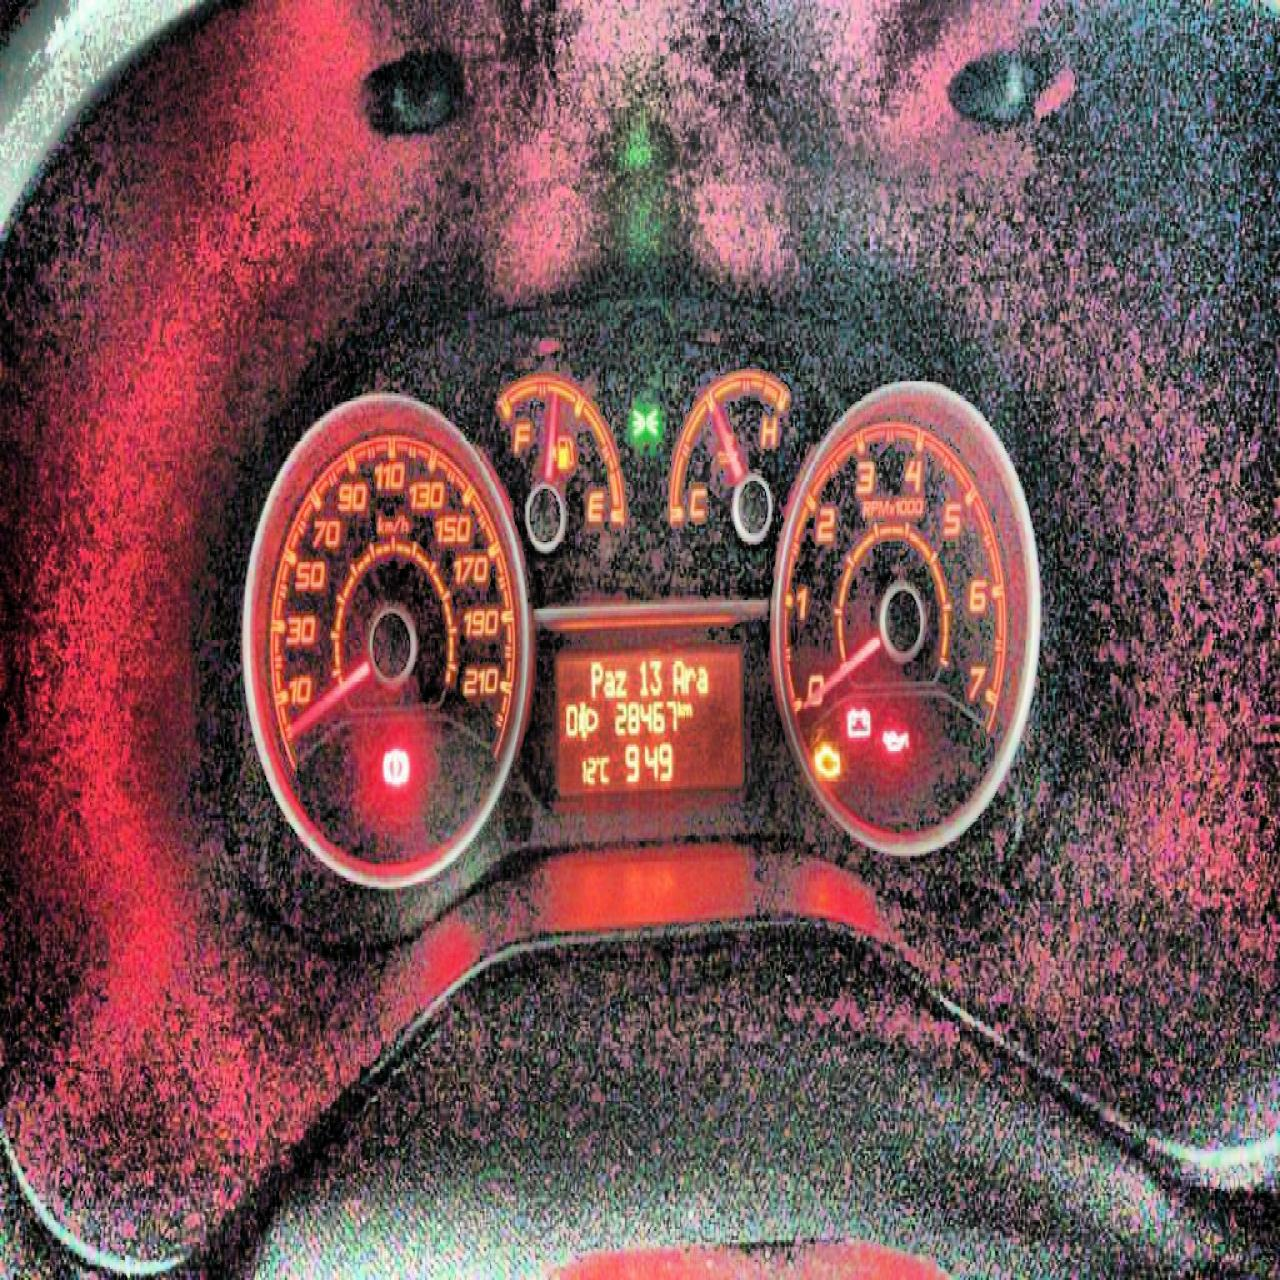0: (564, 700, 577, 736)
1: (638, 658, 647, 695), (581, 756, 585, 782)
2: (613, 697, 626, 734), (585, 754, 595, 784)
3: (648, 658, 661, 693)
4: (644, 742, 658, 778), (639, 700, 652, 731)
6: (652, 697, 663, 731)
7: (665, 697, 676, 731)
8: (626, 700, 639, 734)
9: (658, 740, 672, 779), (624, 740, 638, 779)
X: (588, 660, 601, 696), (672, 658, 683, 693), (614, 667, 627, 695), (602, 667, 615, 695), (683, 665, 696, 692), (696, 665, 708, 692), (599, 754, 610, 783), (682, 702, 692, 714), (676, 697, 682, 715)
odometer: (550, 638, 749, 798)
